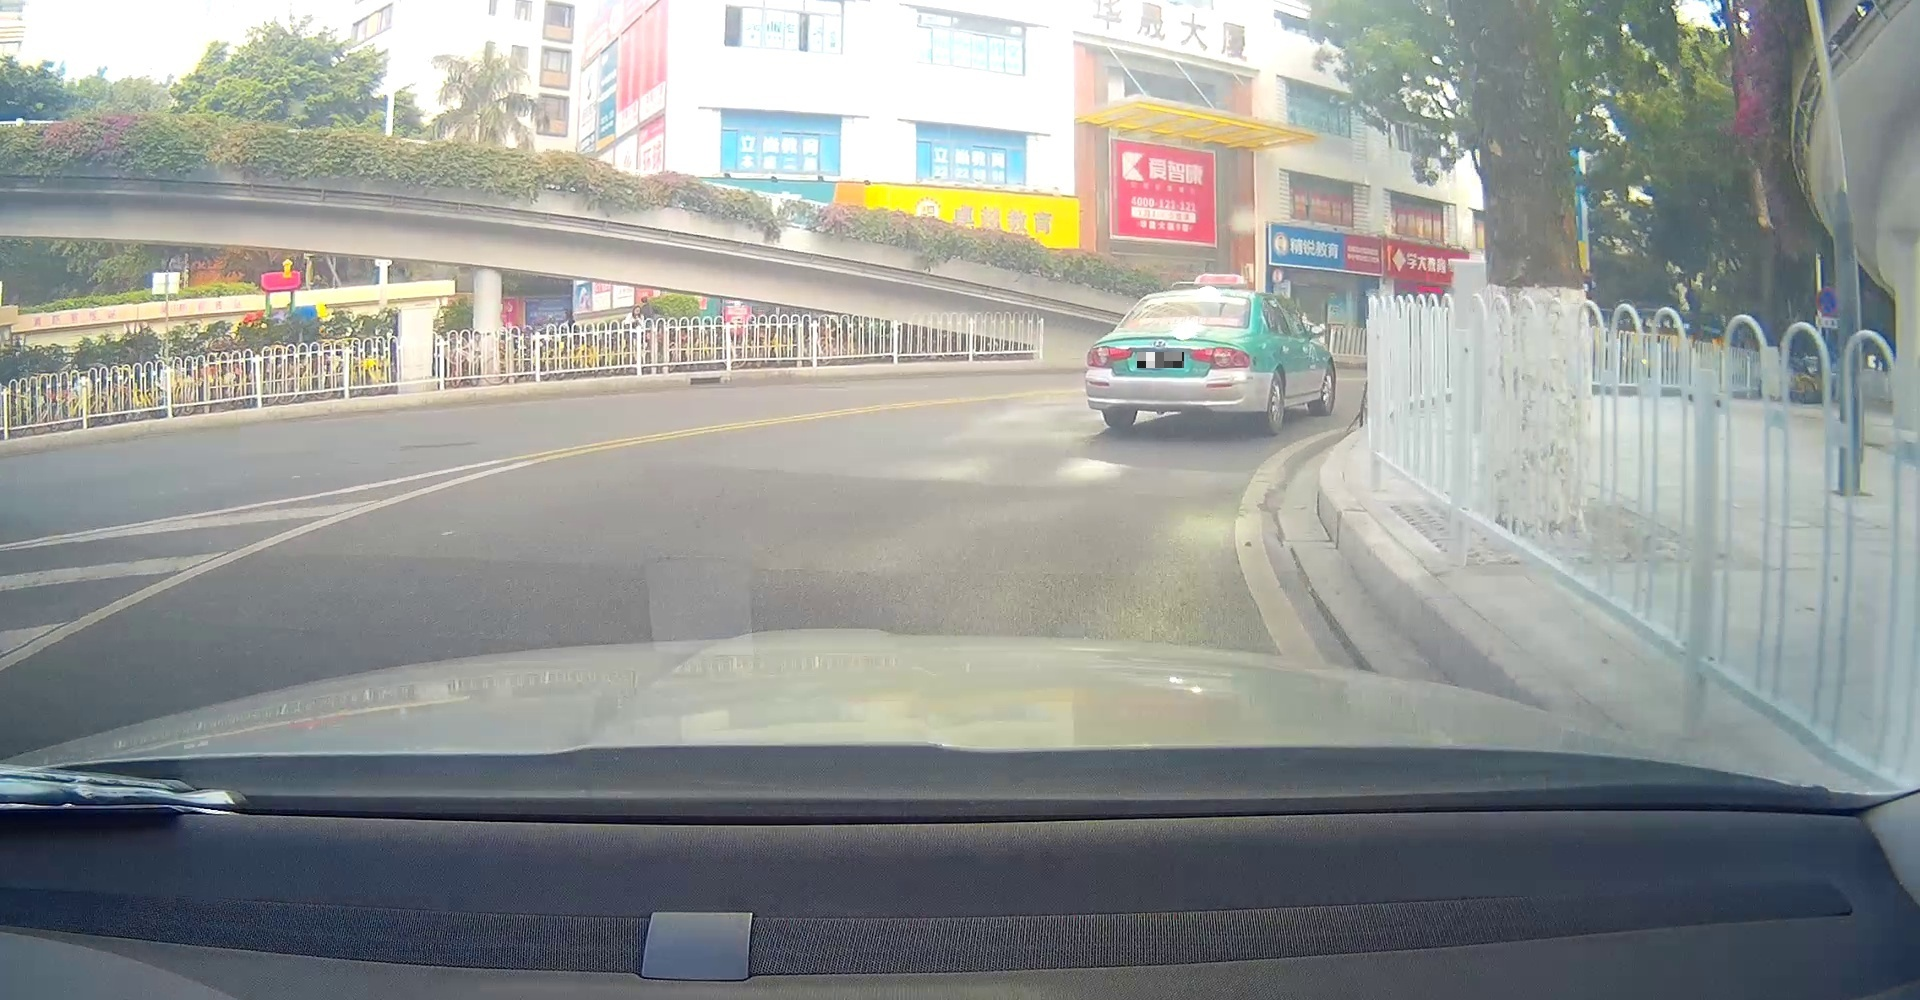L_light: (1086, 345, 1134, 368)
R_light: (1189, 346, 1251, 369)
T_light: (1182, 294, 1203, 301)
day-no: (1084, 289, 1251, 435)
plate_1: (1137, 352, 1183, 368)
